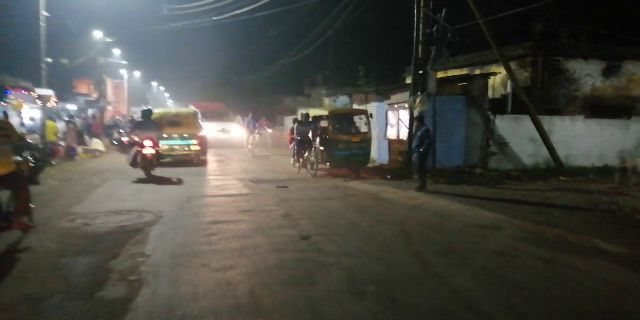Autorickshaw: (327, 104, 380, 169)
Cycle: (283, 111, 320, 176)
Motorbike: (128, 105, 164, 175)
